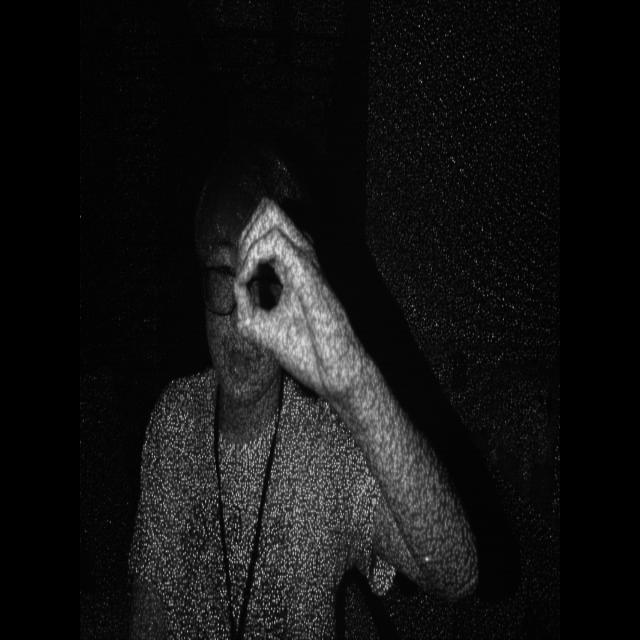O: (223, 182, 353, 390)
